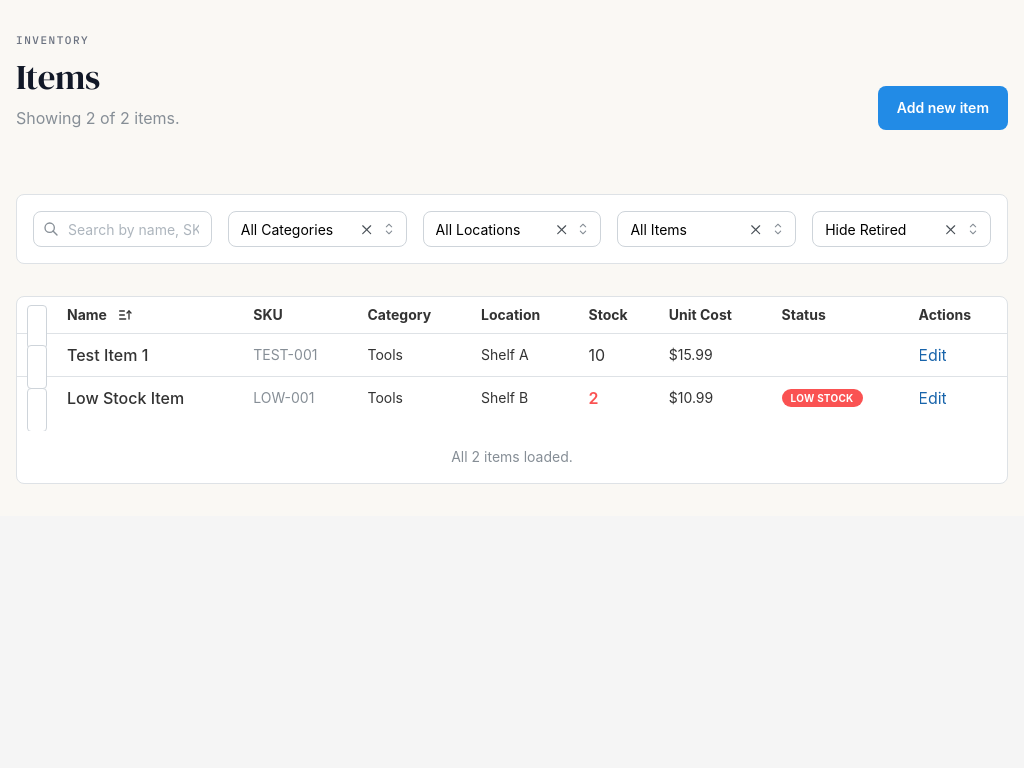
Test: InventoryListPage › handles item selection
expect the text "Test Item 1" is shown: met, box [67, 345, 148, 365]
// First checkbox is "select all", second is for first item
Click the checkbox next to "Test Item 1" at (37,367), box [27, 345, 47, 389]
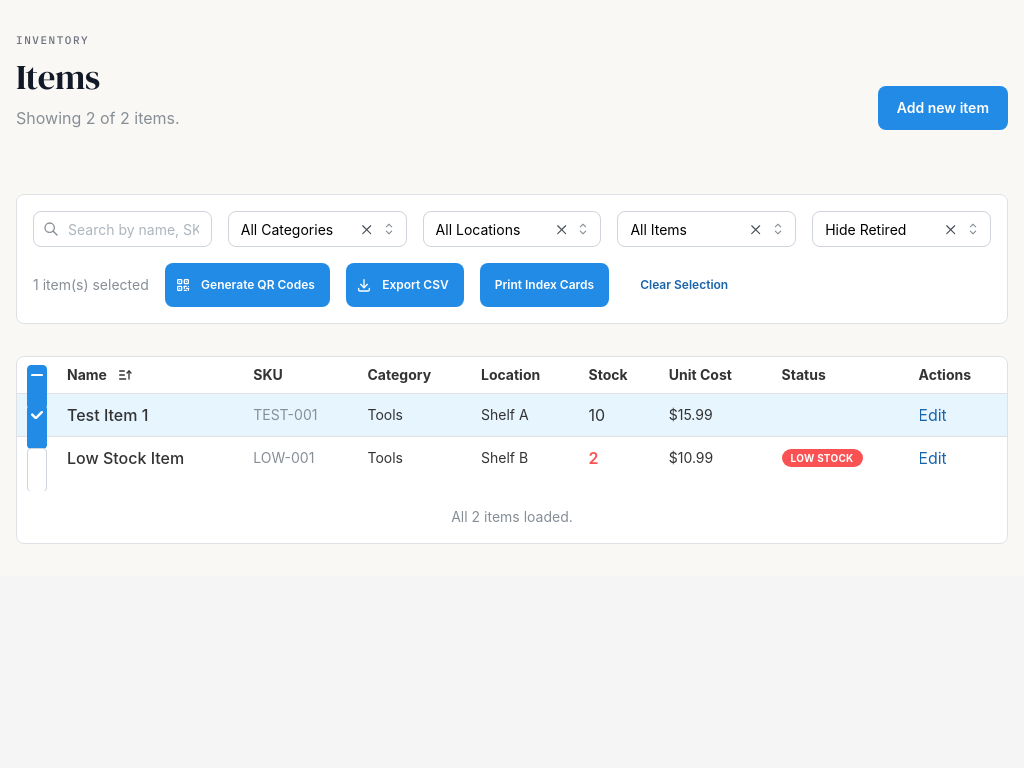
expect the text "1 item(s) selected" is shown: met, box [33, 275, 149, 296]
